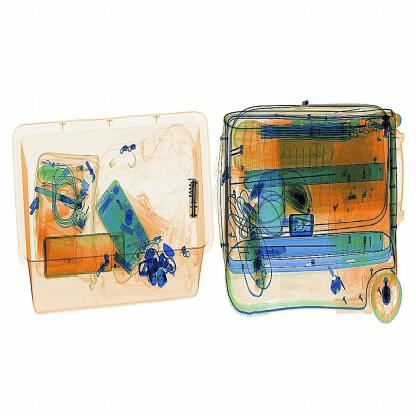scissors: (180, 169, 217, 230)
